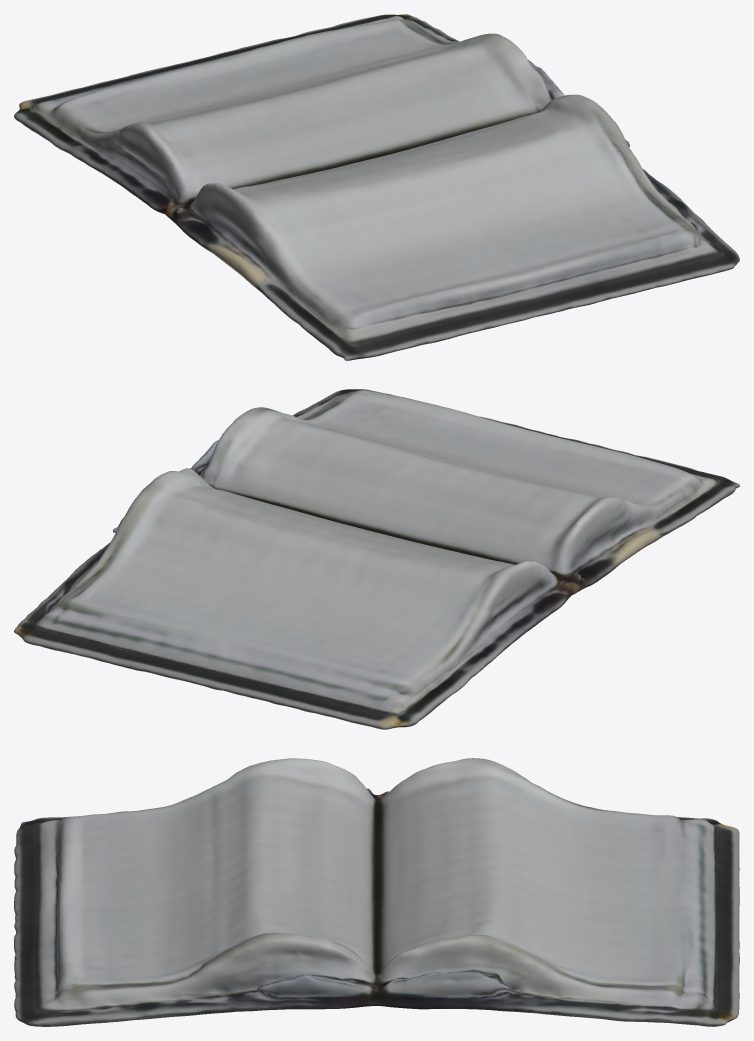
The model's file is 24f6580fafd5_a_opened_book__3d_a.fbx.
3 renders of one model, top to bottom at view 1: azimuth 30°, elevation 25°; view 2: azimuth 150°, elevation 25°; view 3: azimuth 270°, elevation 25°, orthographic. The views are drawn at different scales.
Parts seen in each view (by area): view 1: high_poly; view 2: high_poly; view 3: high_poly.
Boxes of the visible parts, x1,y1,x2,y2 form: high_poly: (14,14,739,360); high_poly: (14,389,739,729); high_poly: (14,758,739,1026).
Size of the model in its own units: 68.13 by 12.1 by 100.
